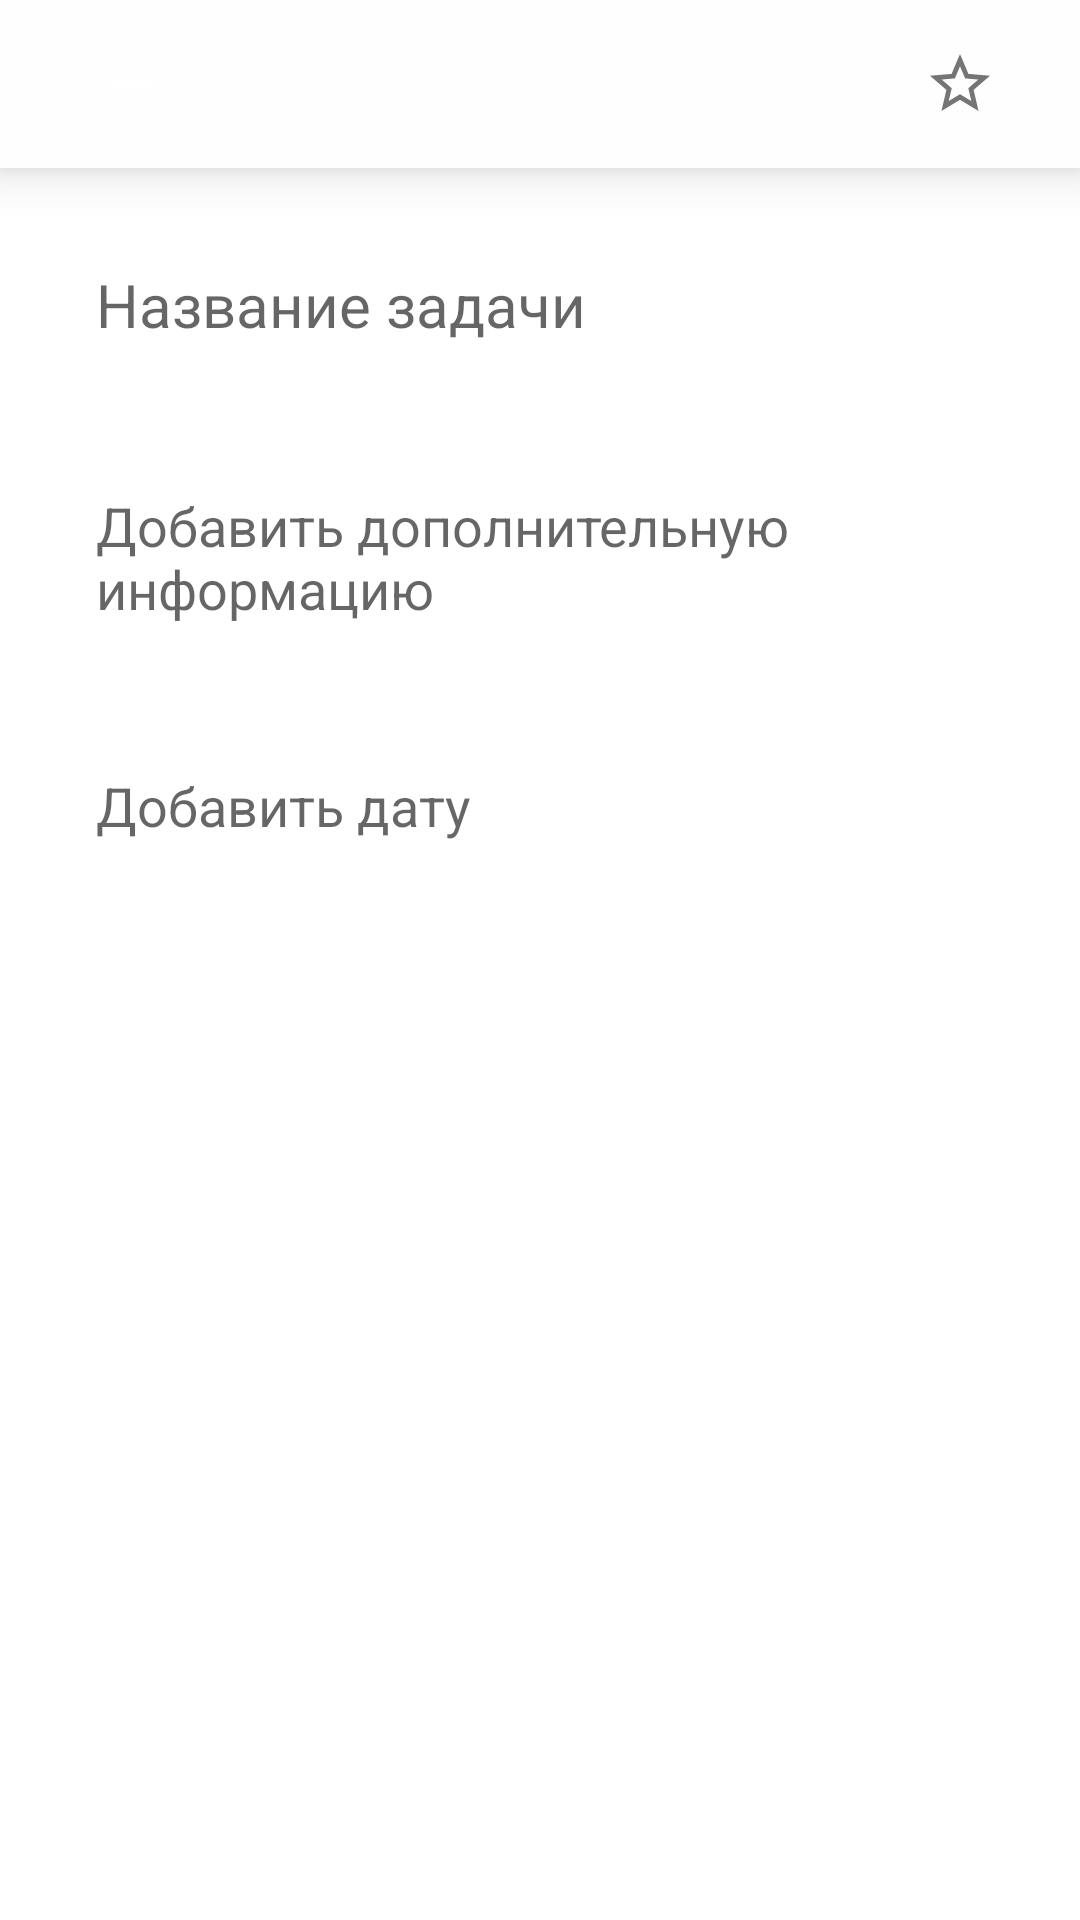

Where to tap for icons on this 1080px x 1920px app screen, as (x,y):
start checkbox: (960,82)
